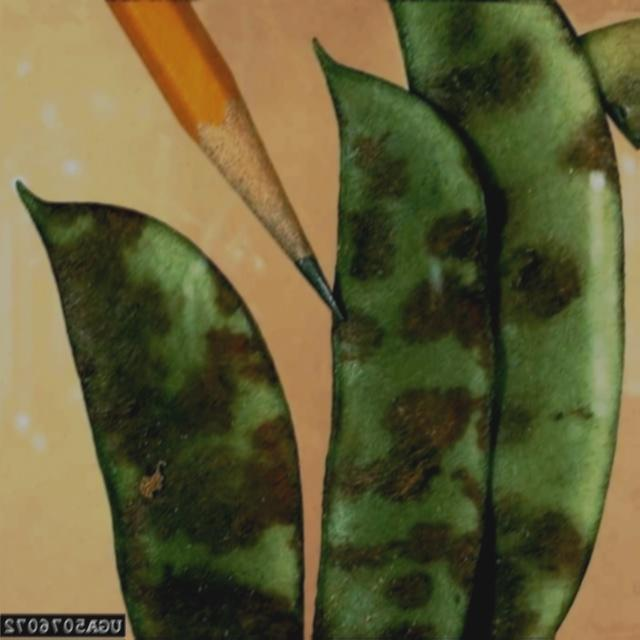shot_hole: (308, 33, 632, 640), (3, 168, 314, 638)
